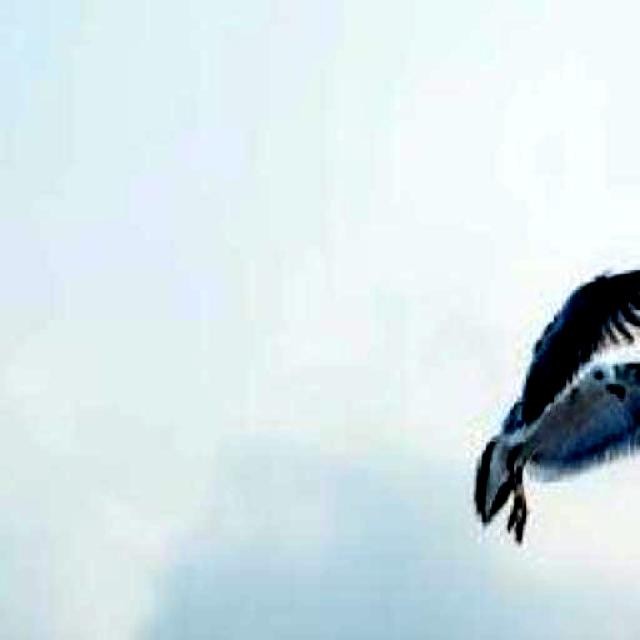airplane: (478, 239, 640, 549)
